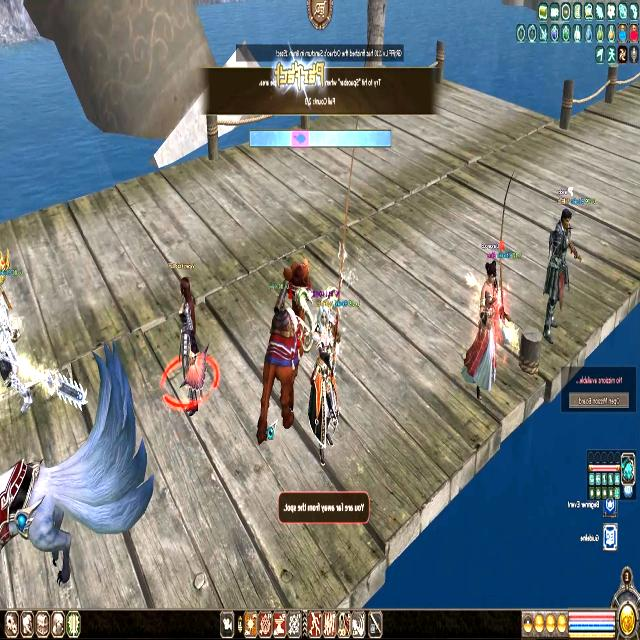fishes: (292, 131, 307, 145)
